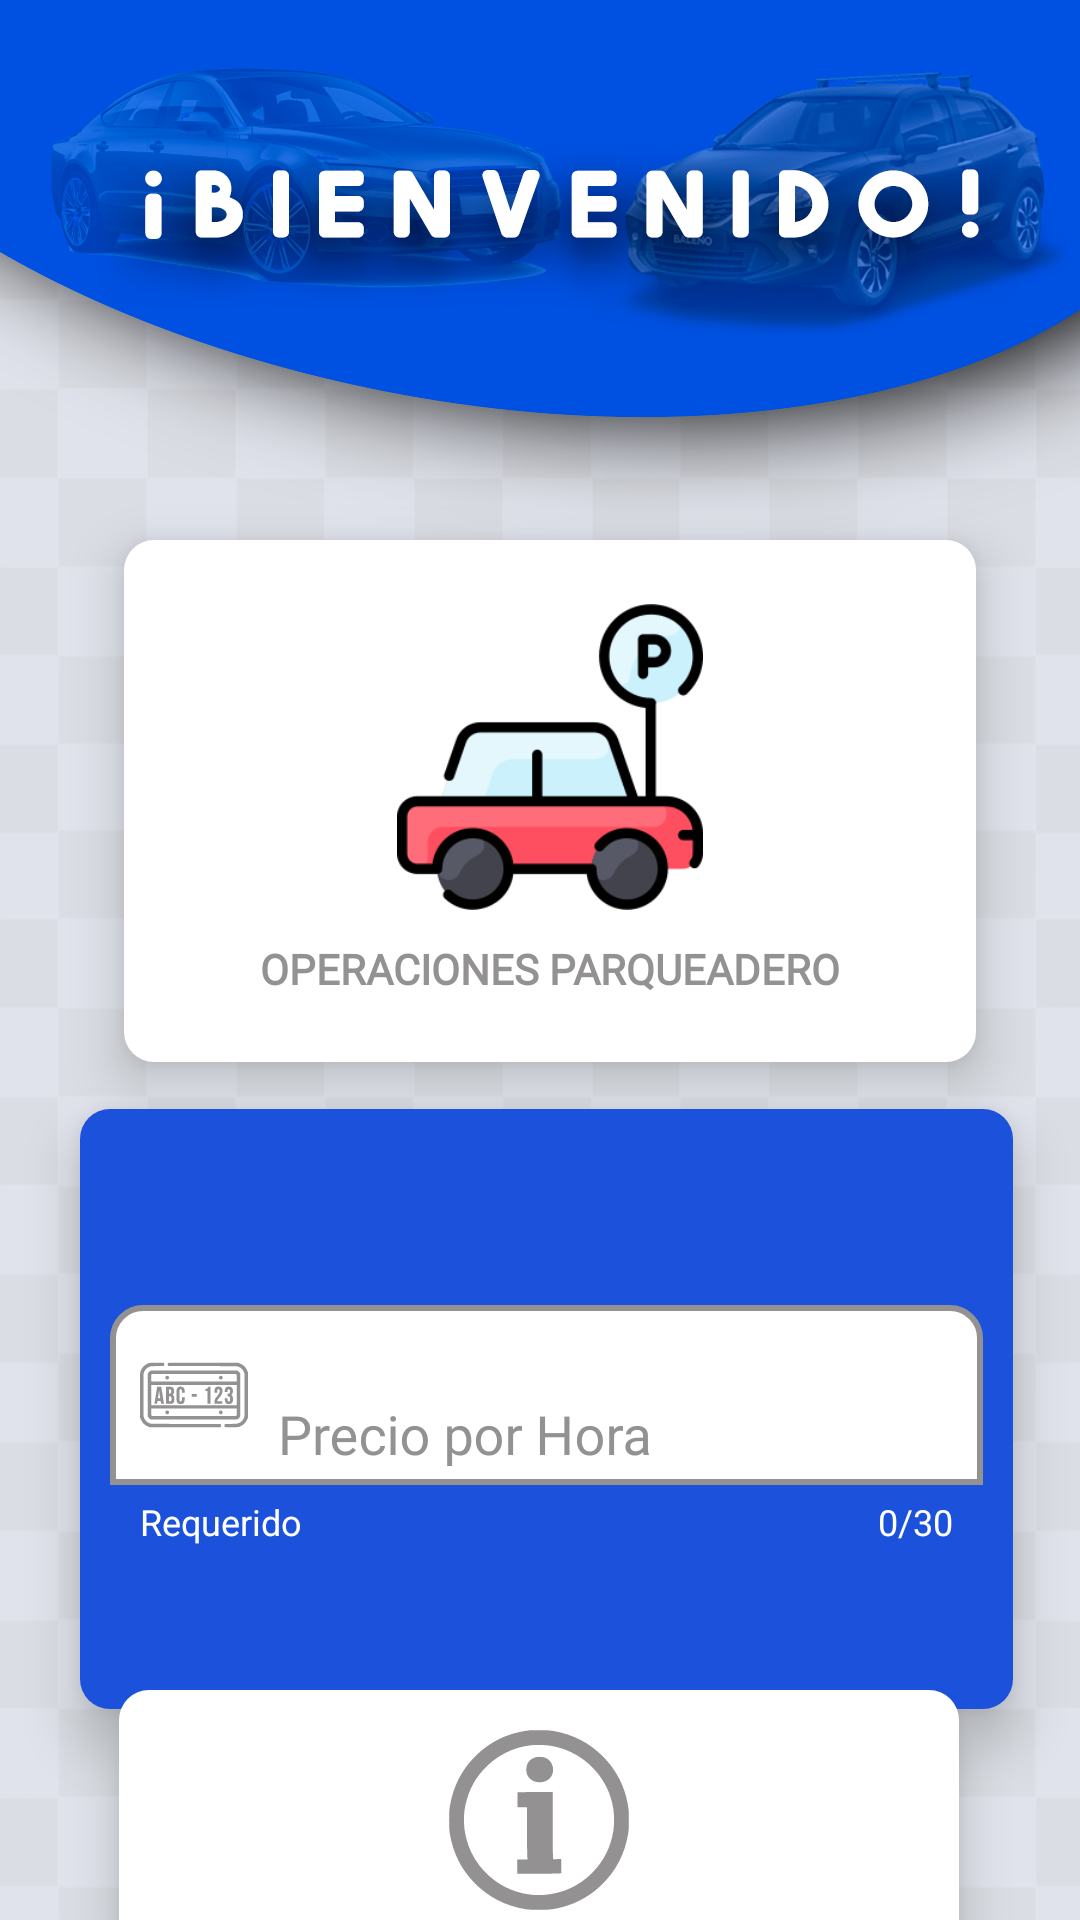

Icons on this 1080 × 1920 Android screen, each with its box as (x1, y1, x2, y2):
de informacio: (449, 1730, 629, 1910)
